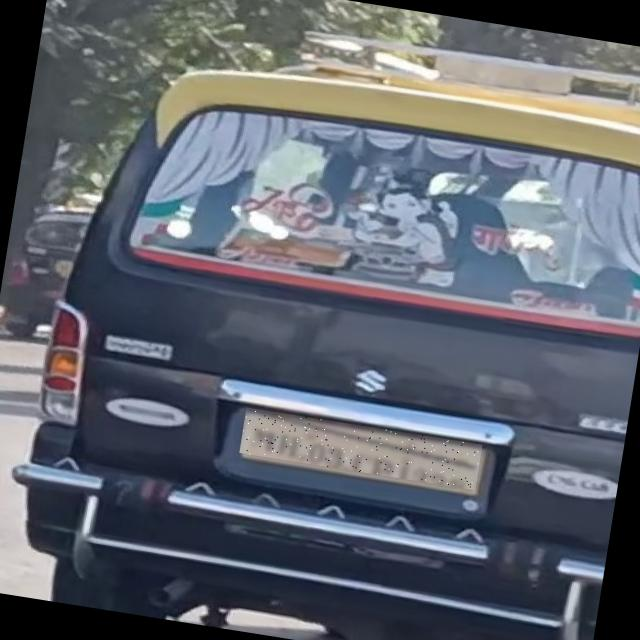Plate: (241, 409, 485, 492)
